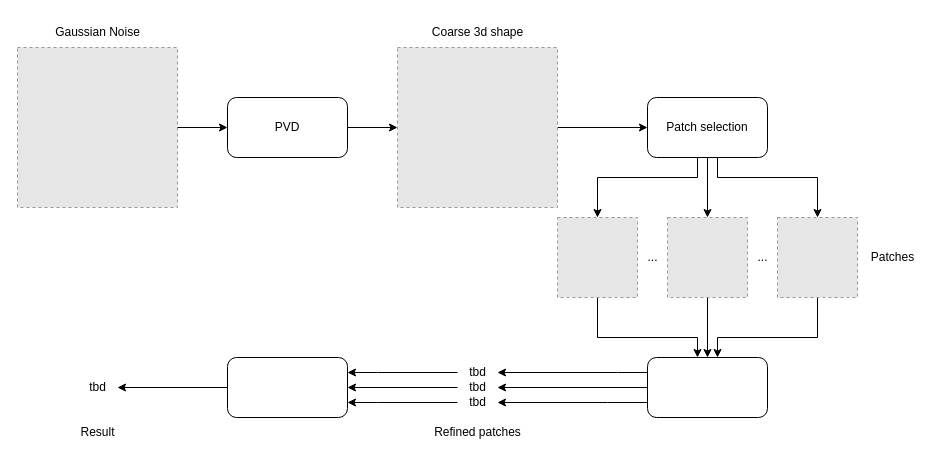
This 945x464 diagram has some shape labels left out. Grey dashed boxes stand in for pictures. The centre of each missing label's shape, as x and y in pixels:
Patch combination: pixel 287 387
Refinment Diffusion Network: pixel 707 387
